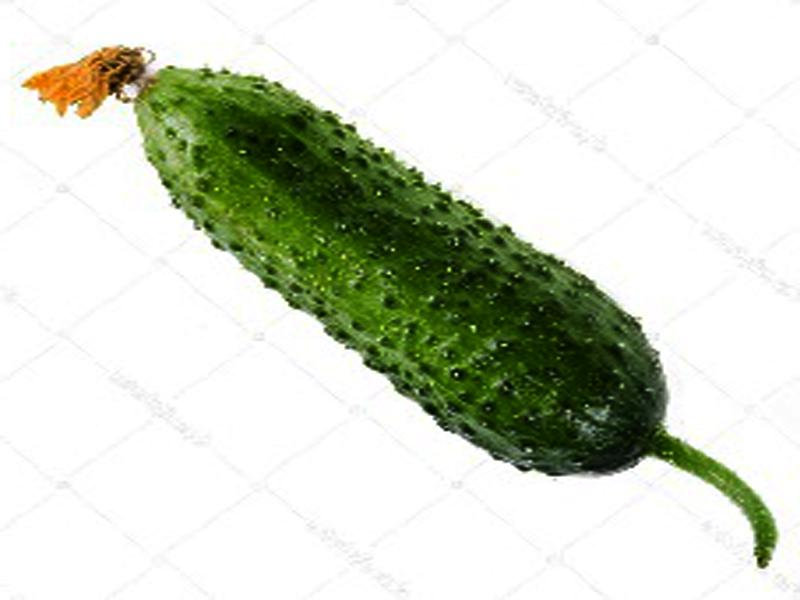Cucumber: (20, 45, 774, 563)
